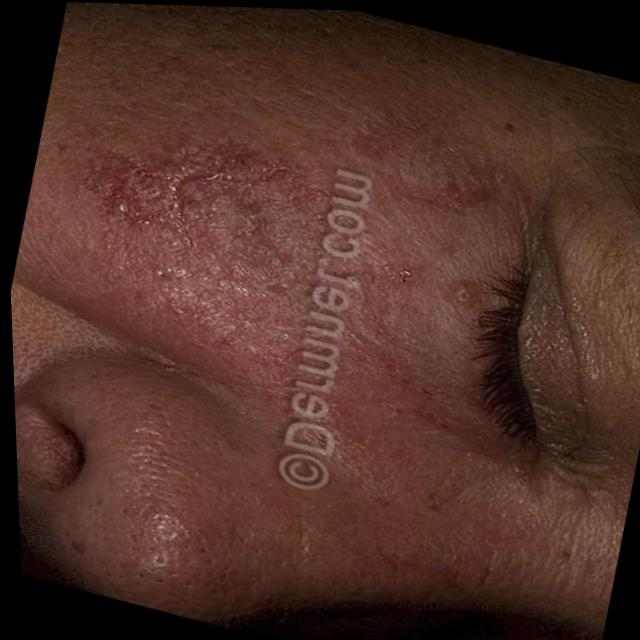Eczema: (58, 45, 483, 418)
